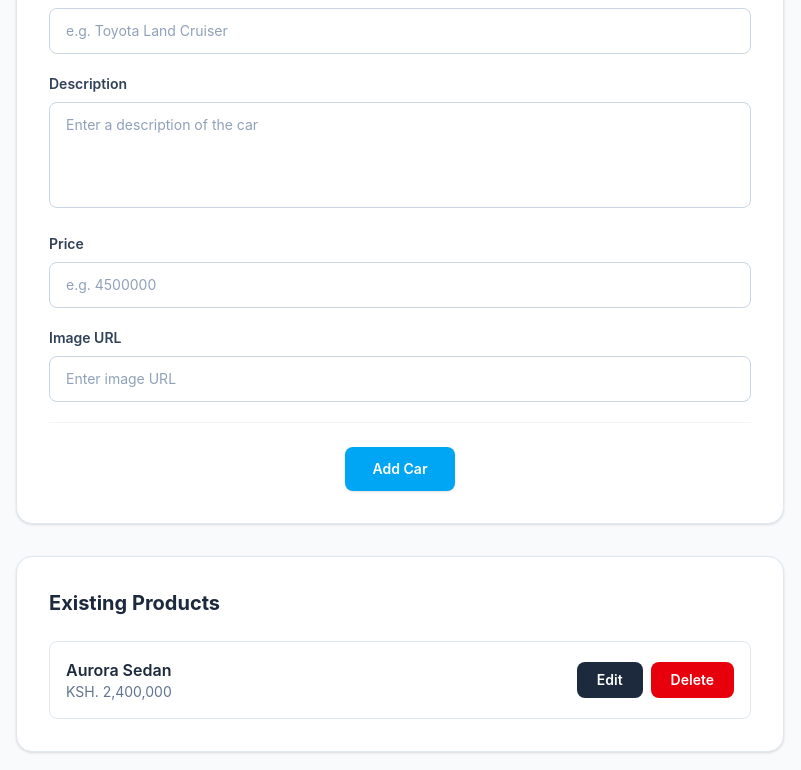
Test case: Admin page › edits an existing car
(page scrolled)
Expected: the heading "Aurora Sedan" is shown, [66,658,172,682]
Click the button "Edit".
click(610, 680)  # box [577,662,643,698]
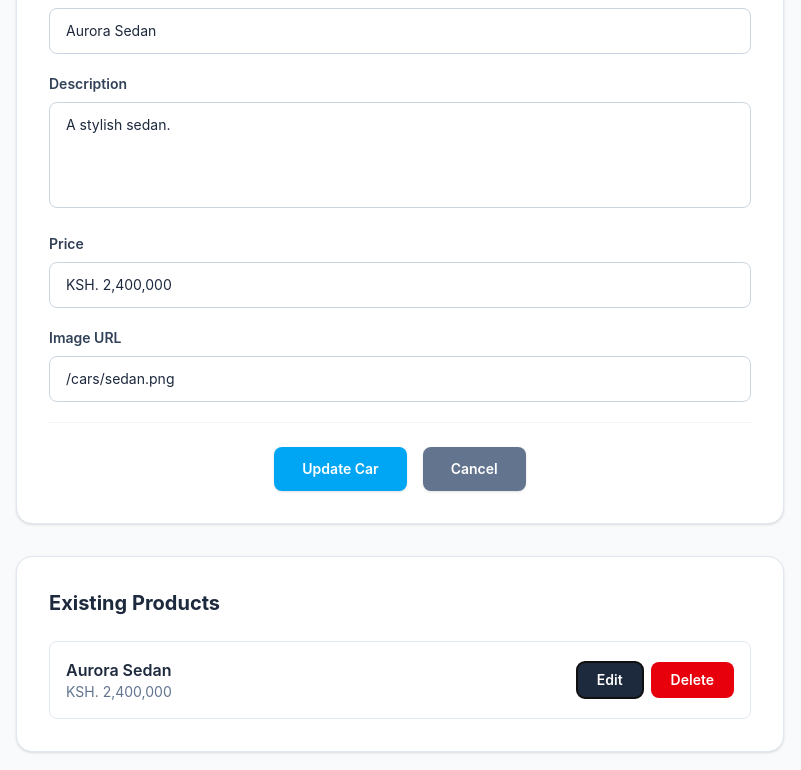
Replace the text in the field labelled "Car Name" with "Aurora Sedan LX" at (400, 31), box [49,8,751,54]
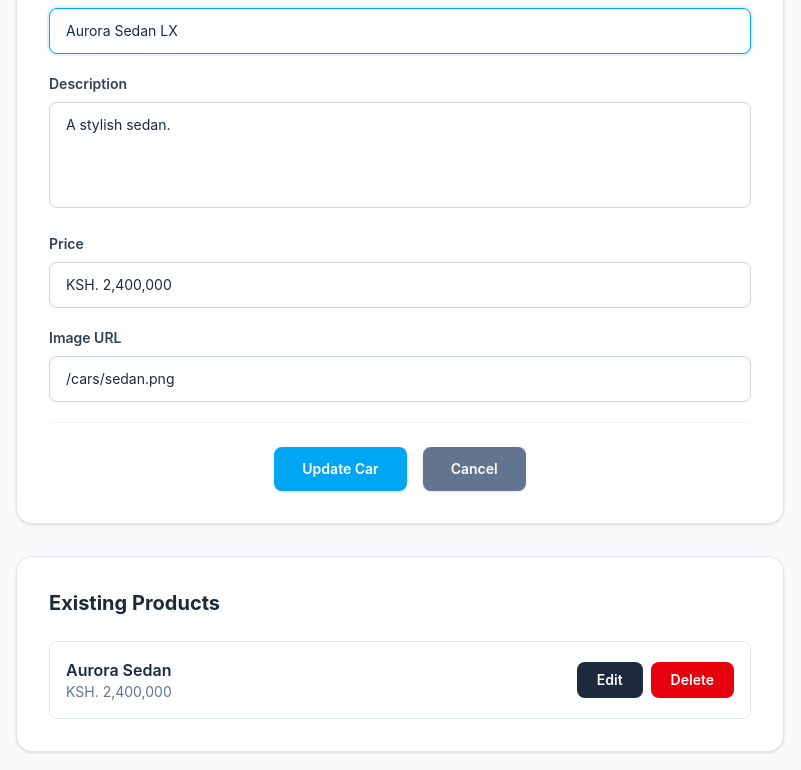
Click the button "Update Car".
click(340, 469)  # box [274,447,407,491]
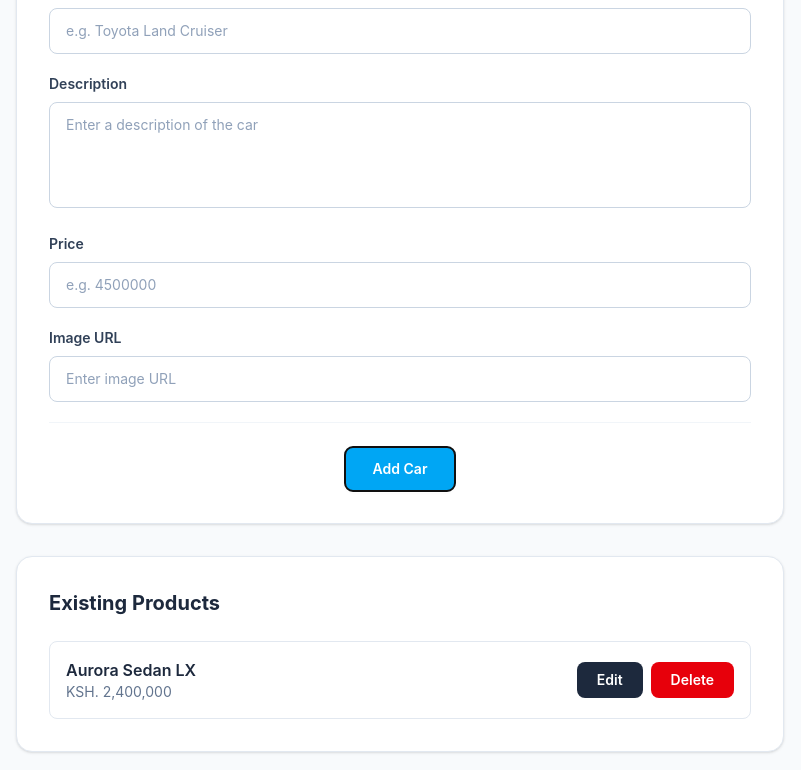
Expected: the heading "Aurora Sedan LX" is shown, [66,658,196,682]
